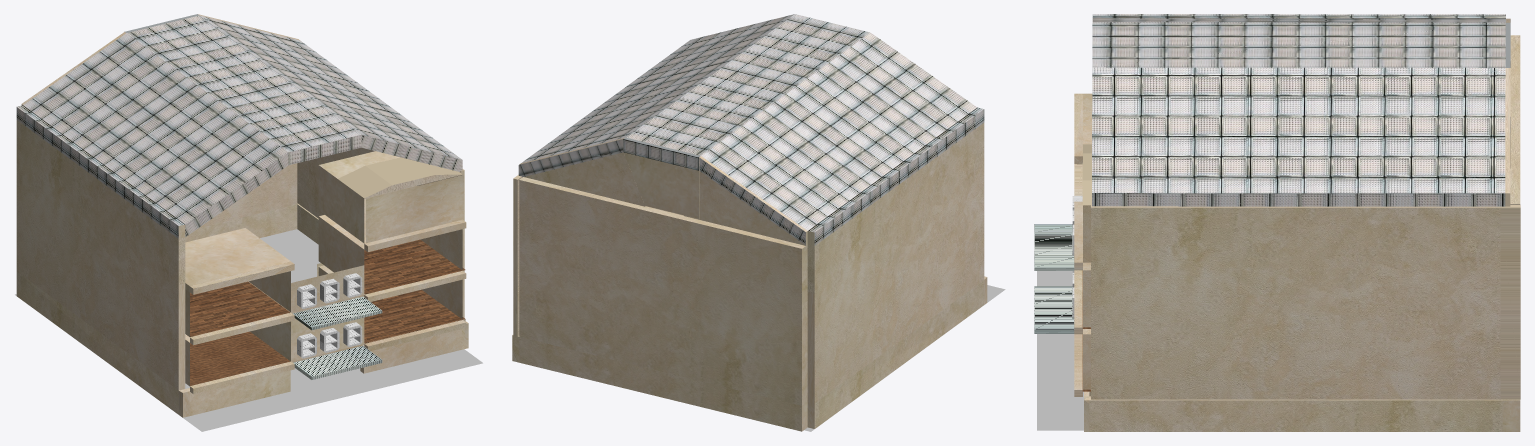
File: CentroComercialPrueba.fbx
3 views of the same model, side by side, from view 1: azimuth 30°, elevation 25°; view 2: azimuth 150°, elevation 25°; view 3: azimuth 270°, elevation 25° (orthographic). The views are drawn at different scales.
Visible parts, largest first — view 1: EstructuraMall; view 2: EstructuraMall; view 3: EstructuraMall.
Part boxes in pixels (bbox=[...]): EstructuraMall: bbox=[15, 14, 482, 431]; EstructuraMall: bbox=[512, 14, 1005, 431]; EstructuraMall: bbox=[1034, 14, 1520, 431].
Size of the model in its own units: 4996 by 3950 by 5786.
